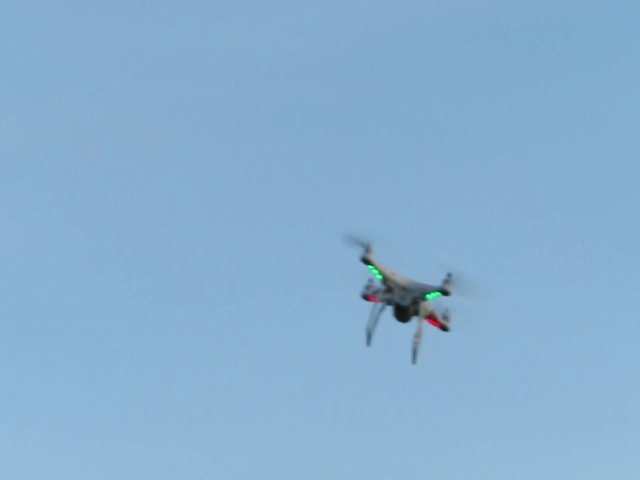drone: (347, 232, 463, 366)
